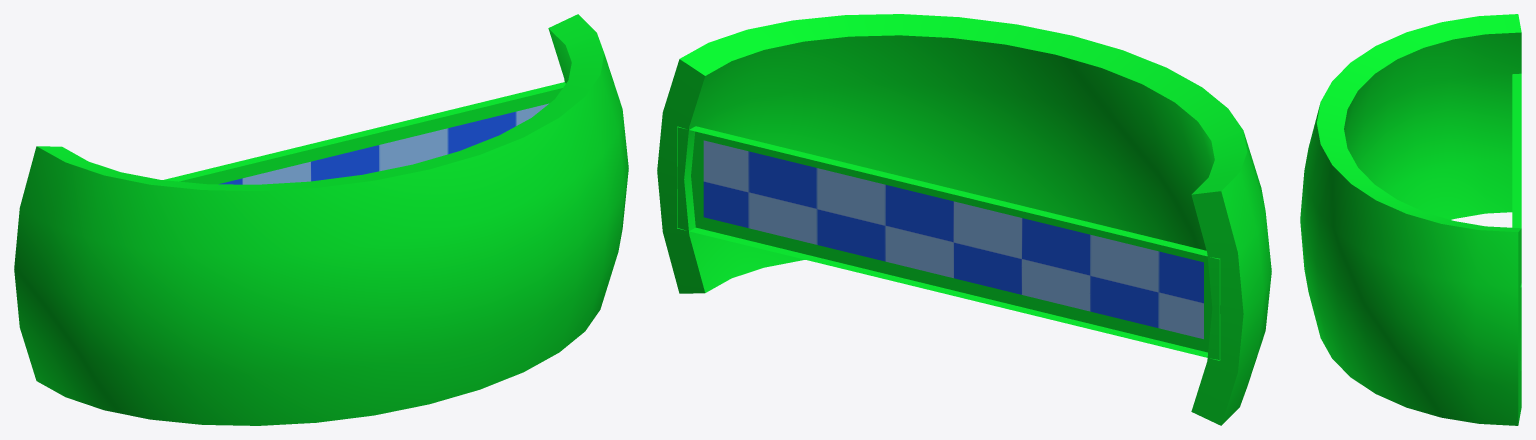
File: LightWall06_2.FBX
The picture shows the model from 3 angles, left to right: view 1: azimuth 30°, elevation 25°; view 2: azimuth 150°, elevation 25°; view 3: azimuth 270°, elevation 25°; orthographic projection. The views are drawn at different scales.
Parts seen in each view (by area): view 1: LightWall06_2; view 2: LightWall06_2; view 3: LightWall06_2.
Part boxes in pixels (<box>): LightWall06_2: <box>14,14,628,425</box>; LightWall06_2: <box>657,14,1271,425</box>; LightWall06_2: <box>1300,14,1521,425</box>.
Size of the model in its own units: 30.26 by 11.58 by 12.
